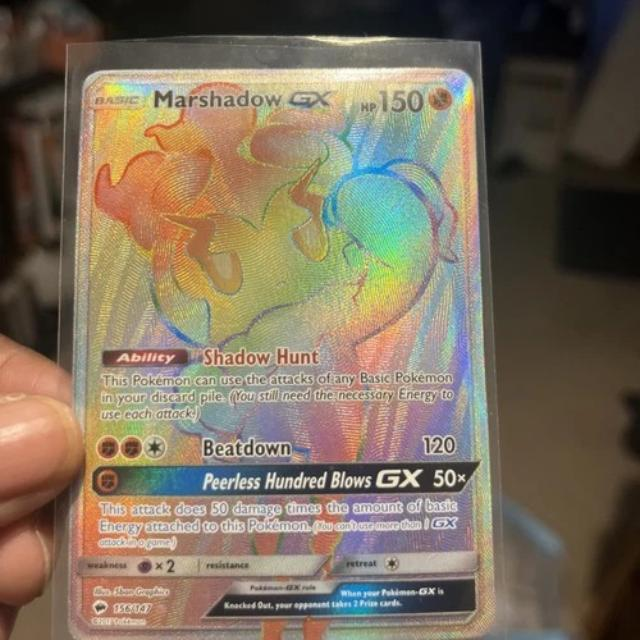Card: (61, 61, 503, 639)
Name: (151, 85, 342, 116)
